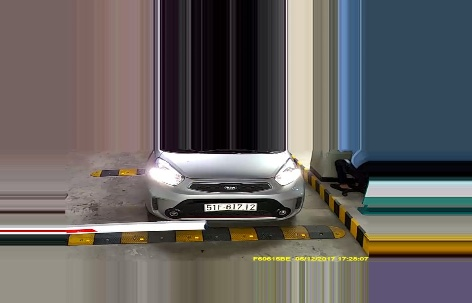plate: (202, 200, 257, 212)
